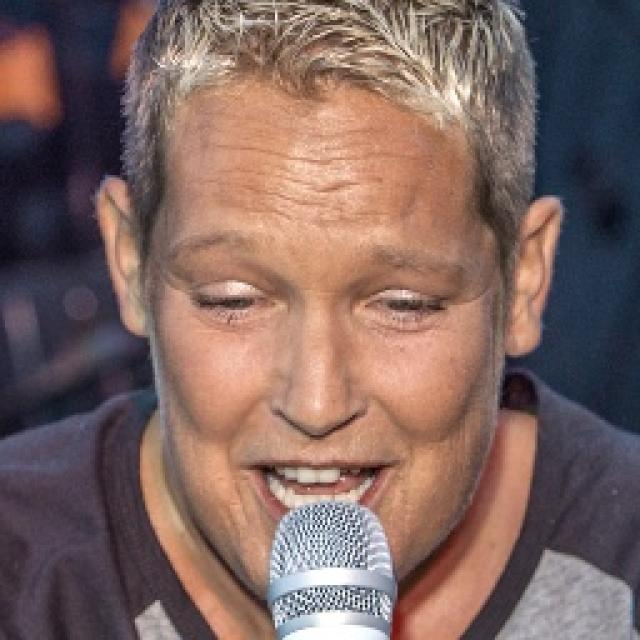earlobe: (503, 307, 538, 358), (117, 286, 150, 339)
eye: (192, 286, 276, 318), (360, 288, 442, 320)
nose: (270, 408, 372, 448)
wholeear: (502, 195, 563, 358), (93, 177, 149, 339)
